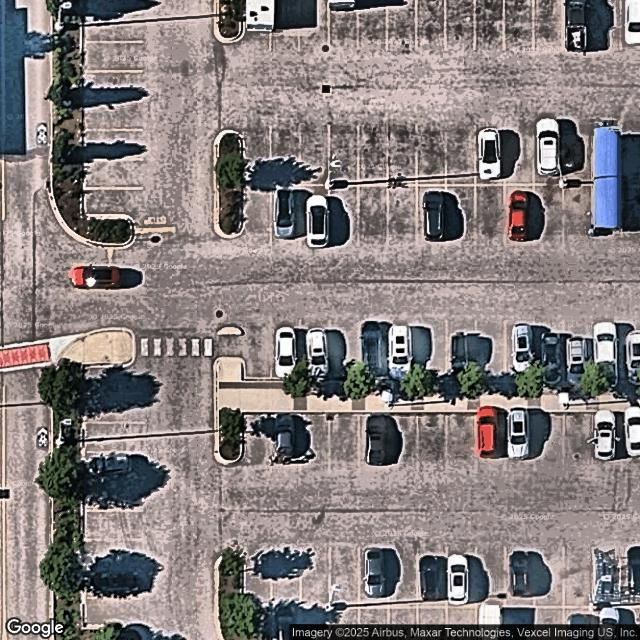car: (592, 321, 619, 387), (362, 408, 391, 466), (535, 118, 562, 177), (360, 320, 386, 377), (592, 409, 618, 465), (566, 331, 590, 389), (445, 552, 471, 604), (507, 406, 532, 460), (540, 328, 564, 384), (275, 406, 301, 457), (477, 127, 502, 180), (390, 322, 413, 379), (364, 545, 388, 599), (307, 192, 329, 249), (420, 188, 444, 240), (510, 322, 533, 375), (479, 405, 501, 459), (275, 326, 297, 378), (307, 327, 329, 378), (568, 0, 589, 53), (274, 186, 295, 239), (509, 551, 533, 597), (246, 0, 276, 33), (510, 191, 529, 243), (419, 555, 440, 602), (451, 331, 470, 380), (477, 603, 502, 640), (625, 405, 640, 459), (623, 0, 640, 47), (598, 607, 622, 640), (566, 610, 592, 640), (626, 331, 640, 380)
lot_boundary: (81, 0, 639, 639)
objects: (214, 358, 639, 464), (213, 554, 264, 639), (595, 122, 625, 238), (592, 553, 640, 603), (217, 132, 240, 235), (216, 0, 241, 41)
stall: (83, 70, 142, 100), (83, 510, 143, 539), (83, 393, 142, 422), (476, 414, 507, 469), (84, 187, 144, 215), (83, 132, 143, 160), (83, 453, 143, 481), (83, 424, 143, 452), (84, 541, 144, 569), (83, 160, 142, 188), (83, 102, 142, 130), (84, 43, 143, 71), (84, 15, 143, 43), (85, 482, 144, 510), (84, 367, 143, 395), (86, 568, 145, 596), (475, 131, 505, 185), (87, 595, 145, 622), (361, 187, 389, 241), (446, 185, 474, 239), (476, 186, 504, 240), (446, 131, 474, 185), (418, 131, 446, 185), (359, 131, 387, 185), (389, 131, 417, 185), (302, 184, 330, 238), (330, 131, 358, 185), (331, 187, 359, 241), (388, 187, 416, 241), (417, 185, 445, 239), (506, 131, 534, 185), (535, 185, 563, 239), (506, 185, 534, 239), (274, 185, 302, 239), (563, 129, 591, 183), (565, 184, 593, 238), (534, 130, 562, 184), (301, 131, 329, 185), (274, 131, 302, 185), (244, 130, 272, 184), (244, 185, 272, 239), (564, 0, 592, 54), (534, 0, 562, 54), (476, 0, 504, 54), (446, 0, 474, 54), (331, 0, 359, 54), (302, 0, 330, 54), (388, 0, 416, 54), (416, 0, 444, 54), (592, 0, 620, 54), (448, 415, 476, 469), (419, 415, 447, 469), (244, 0, 272, 54), (272, 0, 300, 54), (302, 413, 330, 467), (332, 412, 360, 466), (390, 413, 418, 467), (361, 413, 389, 467), (508, 411, 536, 465), (536, 412, 564, 466), (566, 413, 594, 467), (593, 413, 621, 467), (418, 323, 446, 377), (388, 323, 416, 377), (359, 323, 387, 377), (330, 323, 358, 377), (301, 323, 329, 377), (244, 323, 272, 377), (272, 323, 300, 377), (244, 412, 272, 466), (274, 413, 302, 467), (274, 553, 302, 607), (302, 553, 330, 607), (361, 553, 389, 607), (332, 553, 360, 607), (592, 323, 620, 377), (562, 322, 590, 376), (534, 322, 562, 376), (504, 323, 532, 377), (476, 323, 504, 377), (446, 323, 474, 377), (536, 552, 564, 606), (506, 552, 534, 606), (477, 551, 505, 605), (448, 551, 476, 605), (418, 552, 446, 606), (388, 552, 416, 606), (244, 553, 272, 607), (564, 552, 592, 606), (506, 0, 533, 54), (360, 0, 387, 54), (617, 322, 640, 377), (620, 0, 640, 54), (621, 413, 640, 467), (505, 605, 534, 640), (476, 605, 504, 640), (536, 605, 564, 640), (565, 605, 593, 640), (594, 605, 622, 640), (446, 605, 474, 640), (418, 605, 446, 640), (275, 605, 303, 640), (360, 605, 388, 640), (331, 605, 359, 640), (304, 605, 332, 640), (84, 0, 144, 15), (389, 608, 418, 637)
